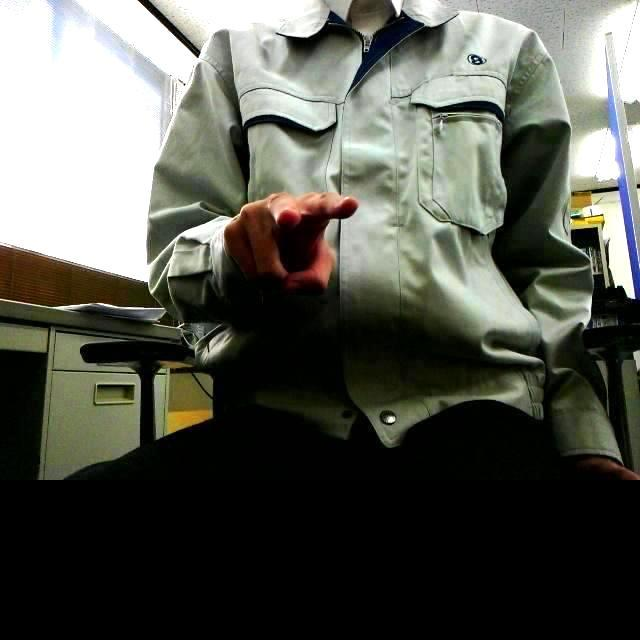tyoki: (223, 190, 358, 297)
